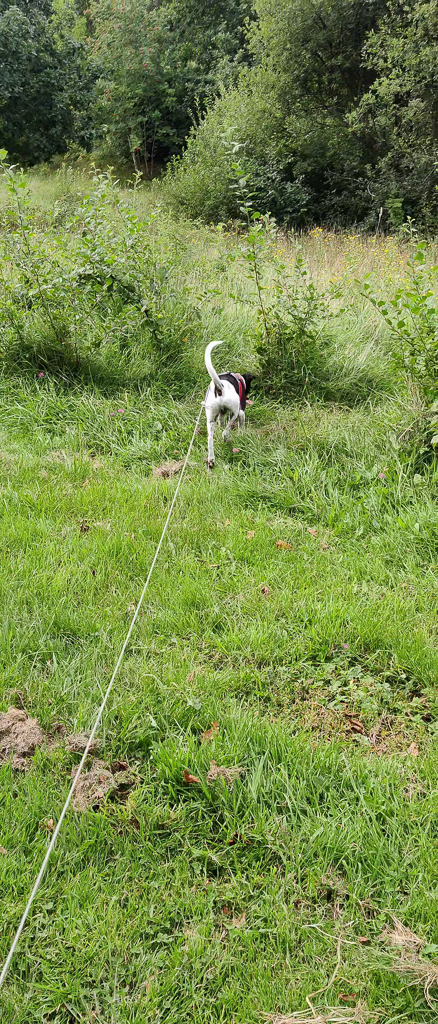Dog: (189, 334, 264, 474)
